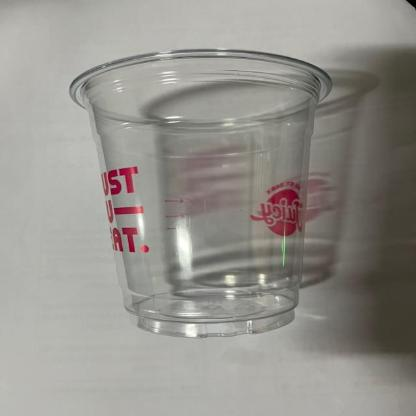Plastic Cup: (66, 43, 338, 338)
